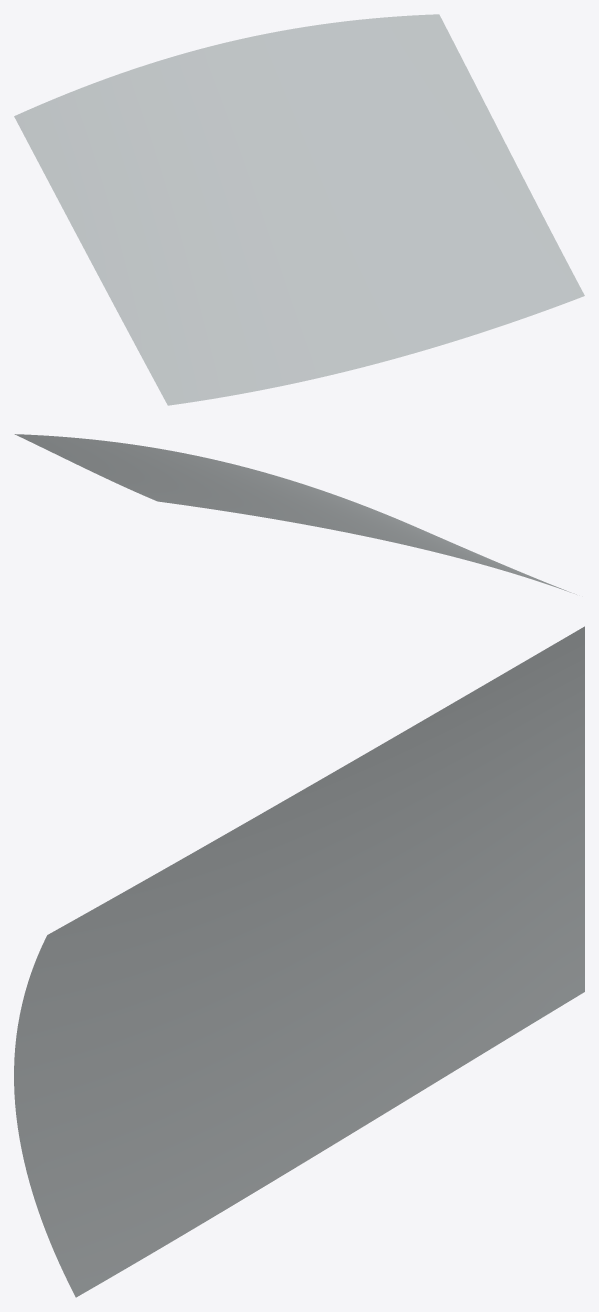
Rendered from alpine-8-9.glb.
The picture shows the model from 3 angles, top to bottom: view 1: azimuth 30°, elevation 25°; view 2: azimuth 150°, elevation 25°; view 3: azimuth 270°, elevation 25°; orthographic projection. The views are drawn at different scales.
Parts seen in each view (by area): view 1: alpine-8-9; view 2: alpine-8-9; view 3: alpine-8-9.
Boxes of the visible parts, x1=… form: alpine-8-9: x1=14, y1=14, x2=584, y2=405; alpine-8-9: x1=14, y1=434, x2=576, y2=594; alpine-8-9: x1=14, y1=626, x2=584, y2=1297.
Bounding box in the file's own units: 256 × 114 × 170.
1 material, 1 textured.
